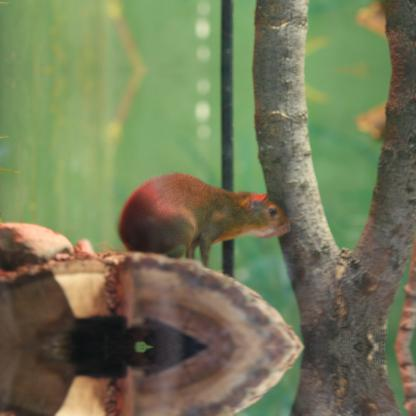Squirrel: (117, 170, 291, 268)
